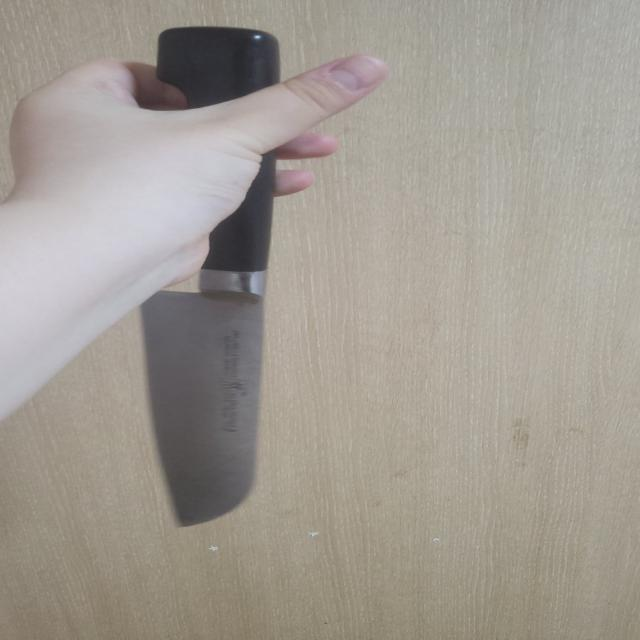knife: (141, 26, 281, 528)
